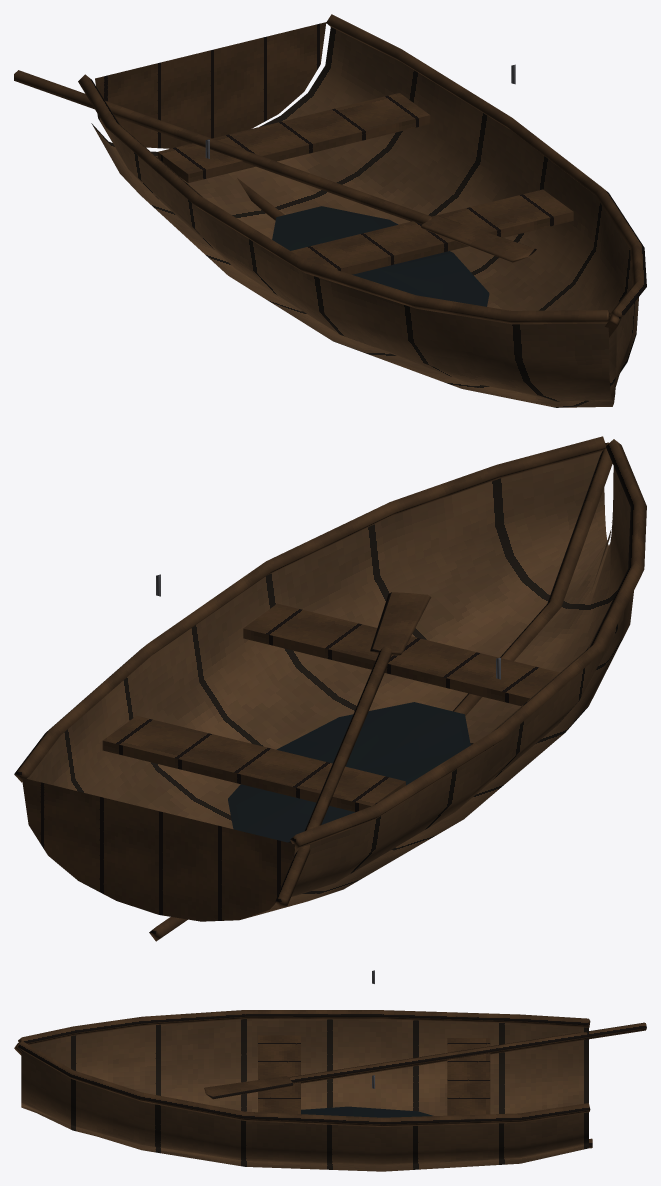
The model's file is ext_rowboat.glb.
3 renders of one model, top to bottom at view 1: azimuth 30°, elevation 25°; view 2: azimuth 150°, elevation 25°; view 3: azimuth 270°, elevation 25°, orthographic. The views are drawn at different scales.
Visible parts, largest first — view 1: detail, hull-col; view 2: detail, hull-col; view 3: detail, hull-col.
Boxes of the visible parts, left/top/right/bottom form: detail: left=14, top=14, right=646, bottom=401; hull-col: left=91, top=27, right=638, bottom=407; detail: left=14, top=436, right=646, bottom=941; hull-col: left=27, top=451, right=633, bottom=919; detail: left=14, top=970, right=646, bottom=1165; hull-col: left=21, top=1019, right=588, bottom=1171.
Size of what is drawn, in the model's own units: 1.54 by 0.85 by 3.68.
Materials: 4 (4 with a texture image).
